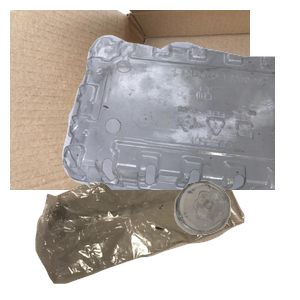cardboard: (10, 10, 250, 190)
glass: (172, 178, 300, 300)
plastic: (60, 32, 300, 212)
trash: (33, 145, 270, 300)
